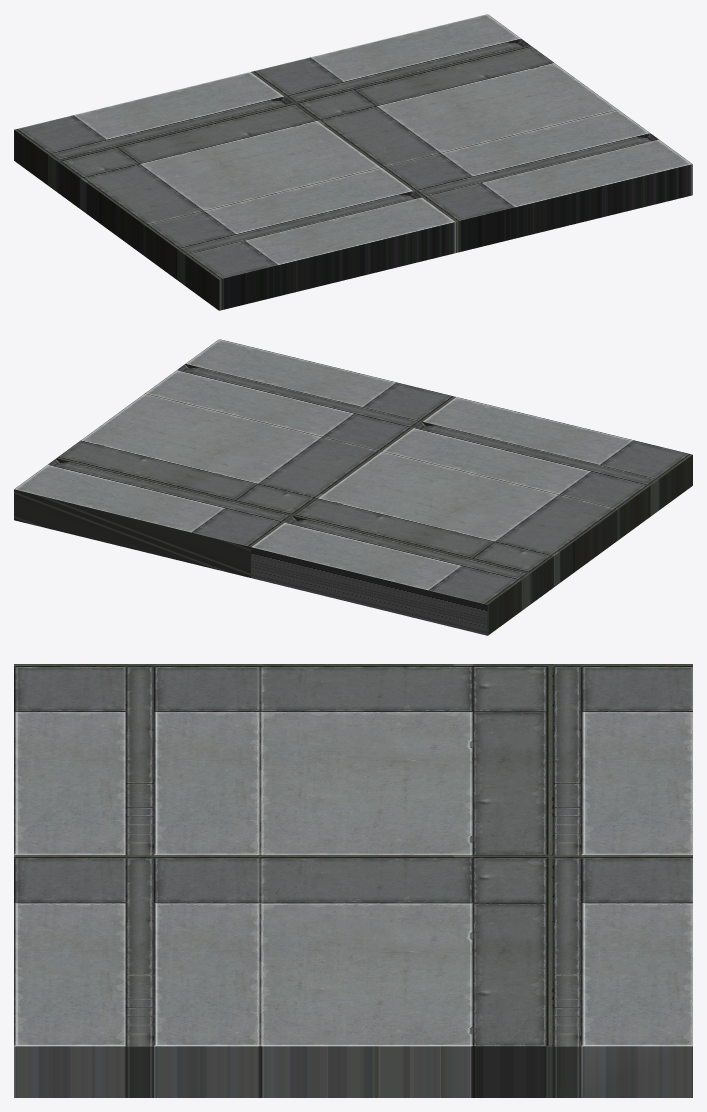
The model's file is Neon_Floor_6x8_01.FBX.
3 views of the same model, one above another, from view 1: azimuth 30°, elevation 25°; view 2: azimuth 150°, elevation 25°; view 3: azimuth 270°, elevation 25° (orthographic). The views are drawn at different scales.
Parts seen in each view (by area): view 1: Neon_Floor_6x8_01; view 2: Neon_Floor_6x8_01; view 3: Neon_Floor_6x8_01.
Part boxes in pixels (box(x1,y1,x2,y2)): Neon_Floor_6x8_01: box(14, 14, 692, 310); Neon_Floor_6x8_01: box(14, 339, 692, 635); Neon_Floor_6x8_01: box(14, 664, 692, 1097).
Size of the model in its own units: 8 by 0.4998 by 6.
